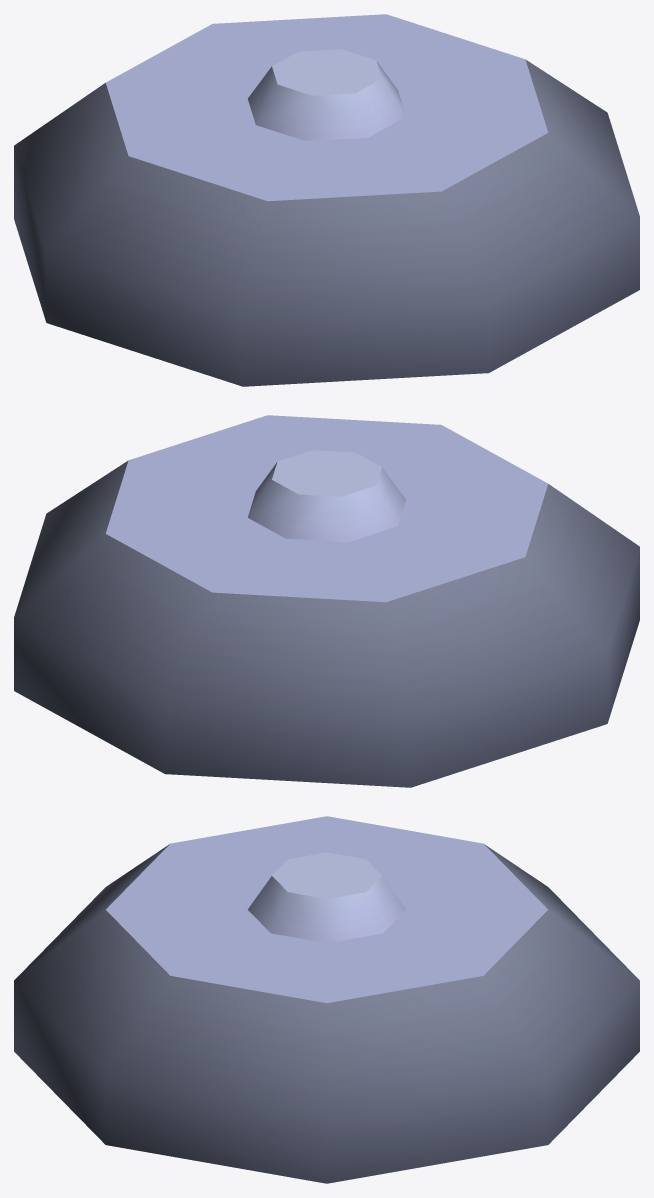
The model's file is shield.glb.
3 views of the same model, one above another, from view 1: azimuth 30°, elevation 25°; view 2: azimuth 150°, elevation 25°; view 3: azimuth 270°, elevation 25° (orthographic). The views are drawn at different scales.
Parts seen in each view (by area): view 1: weapon-shield; view 2: weapon-shield; view 3: weapon-shield.
Part boxes in pixels (box(x1,y1,x2,y2)): weapon-shield: box(14, 14, 639, 386); weapon-shield: box(14, 415, 639, 787); weapon-shield: box(14, 816, 639, 1183).
Bounding box in the file's own units: 0.4 × 0.124 × 0.4.
Materials: 1 (1 with a texture image).
